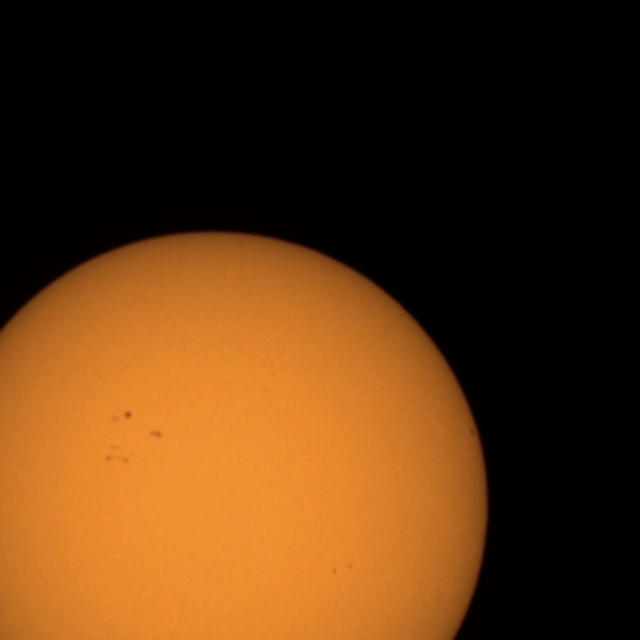sunspot: (103, 443, 132, 468), (109, 409, 134, 425), (330, 563, 354, 576), (147, 428, 164, 440), (122, 409, 133, 422), (468, 426, 477, 438), (330, 566, 339, 576)
